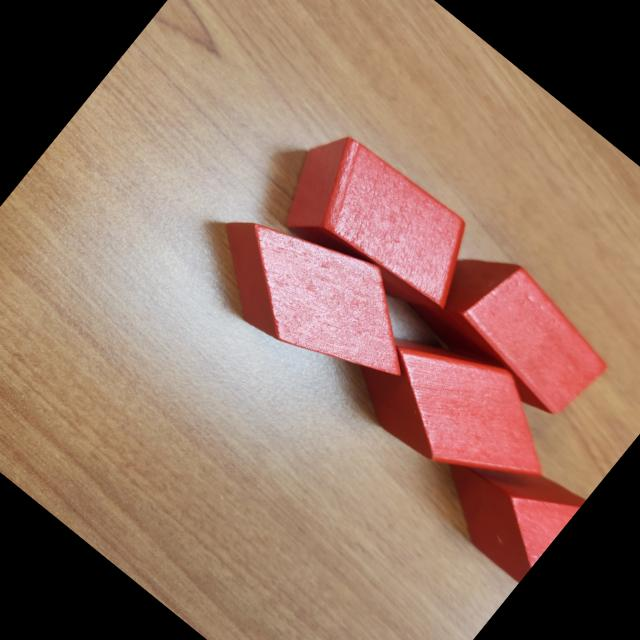red: (187, 178, 433, 412), (337, 295, 578, 523), (261, 116, 488, 333), (407, 229, 625, 434), (418, 418, 587, 584)
